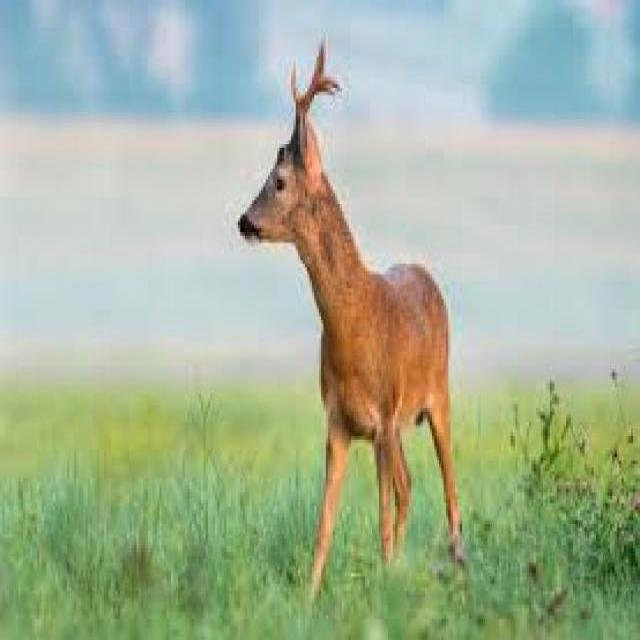deer: (229, 27, 467, 581)
